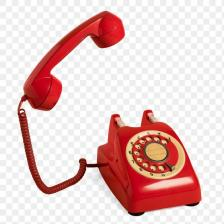red: (26, 11, 122, 110), (105, 114, 204, 202)
